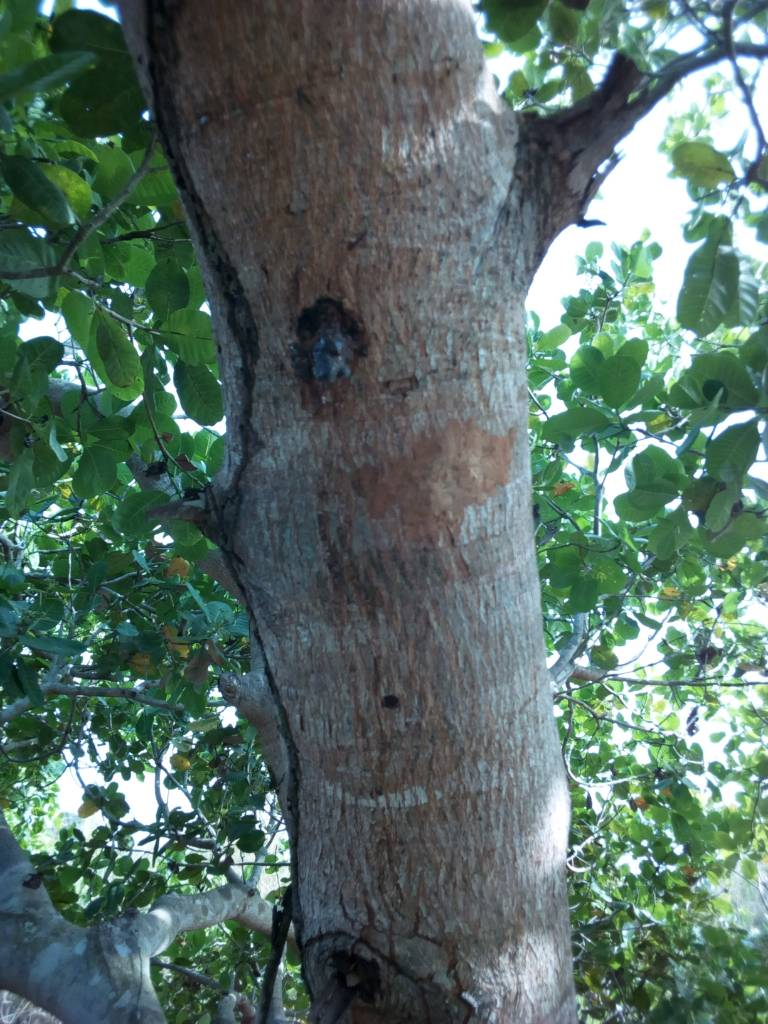Apate terebrans: (258, 296, 430, 417)
